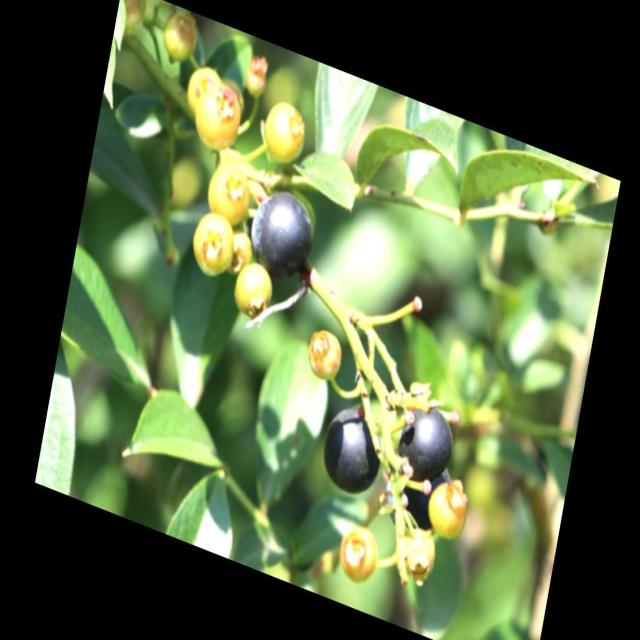blueberry: (243, 178, 318, 288), (376, 441, 456, 544), (316, 394, 389, 500), (392, 392, 458, 490)
blueberry-unripe: (188, 74, 245, 157), (256, 92, 311, 175), (330, 516, 385, 594), (200, 154, 255, 230), (188, 203, 240, 282), (422, 468, 471, 548), (155, 5, 203, 70), (230, 254, 276, 319), (302, 322, 347, 386), (398, 520, 440, 586), (183, 56, 221, 122), (221, 222, 256, 279)
